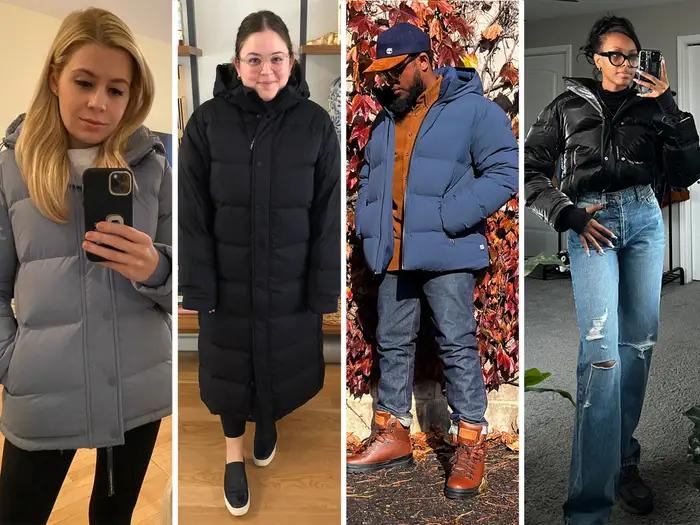coat: (1, 110, 176, 450), (178, 62, 342, 421), (351, 67, 519, 271), (524, 75, 699, 231)
long sleeve shirt: (388, 73, 446, 273)
trousers: (565, 182, 670, 521), (376, 265, 489, 430), (0, 413, 163, 525)
